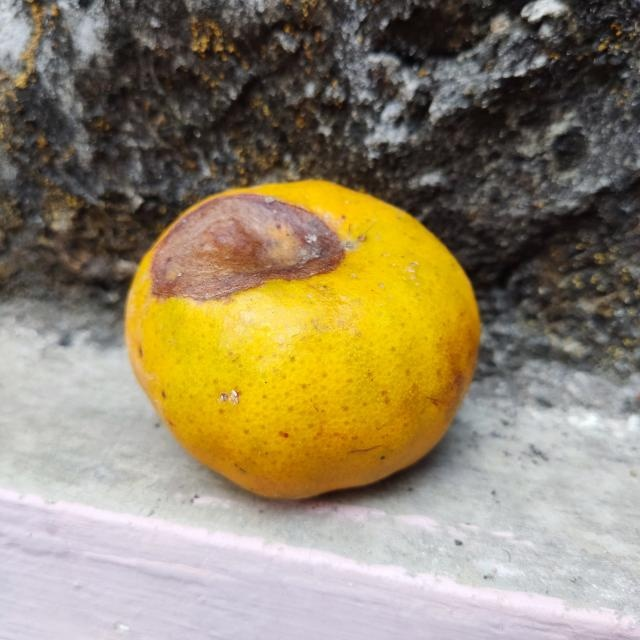agrume: (123, 179, 481, 501)
